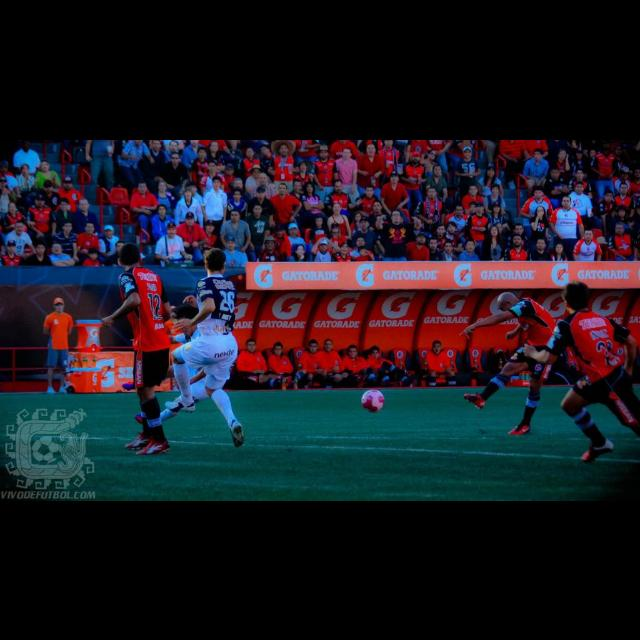Football: (358, 387, 387, 413)
